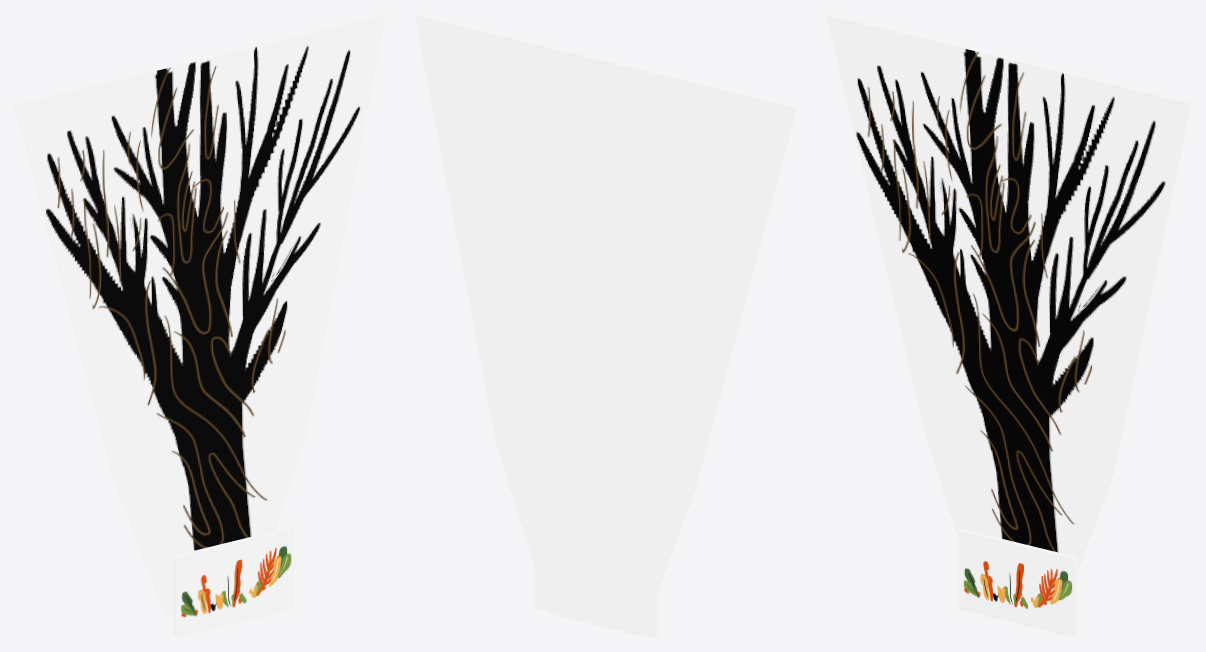
The picture shows the model from 3 angles, left to right: view 1: azimuth 30°, elevation 25°; view 2: azimuth 150°, elevation 25°; view 3: azimuth 330°, elevation 25°; orthographic projection. The views are drawn at different scales.
Parts seen in each view (by area): view 1: 树, 立方体_2_2; view 2: 树, 立方体_2_2; view 3: 树, 立方体_2_2.
Boxes of the visible parts, x1,y1,x2,y2 form: 树: (14,14,385,617); 立方体_2_2: (173,527,294,637); 树: (414,14,797,635); 立方体_2_2: (534,566,658,637); 树: (826,14,1191,571); 立方体_2_2: (958,529,1077,637).
Size of the model in its own units: 440 by 634 by 29.
